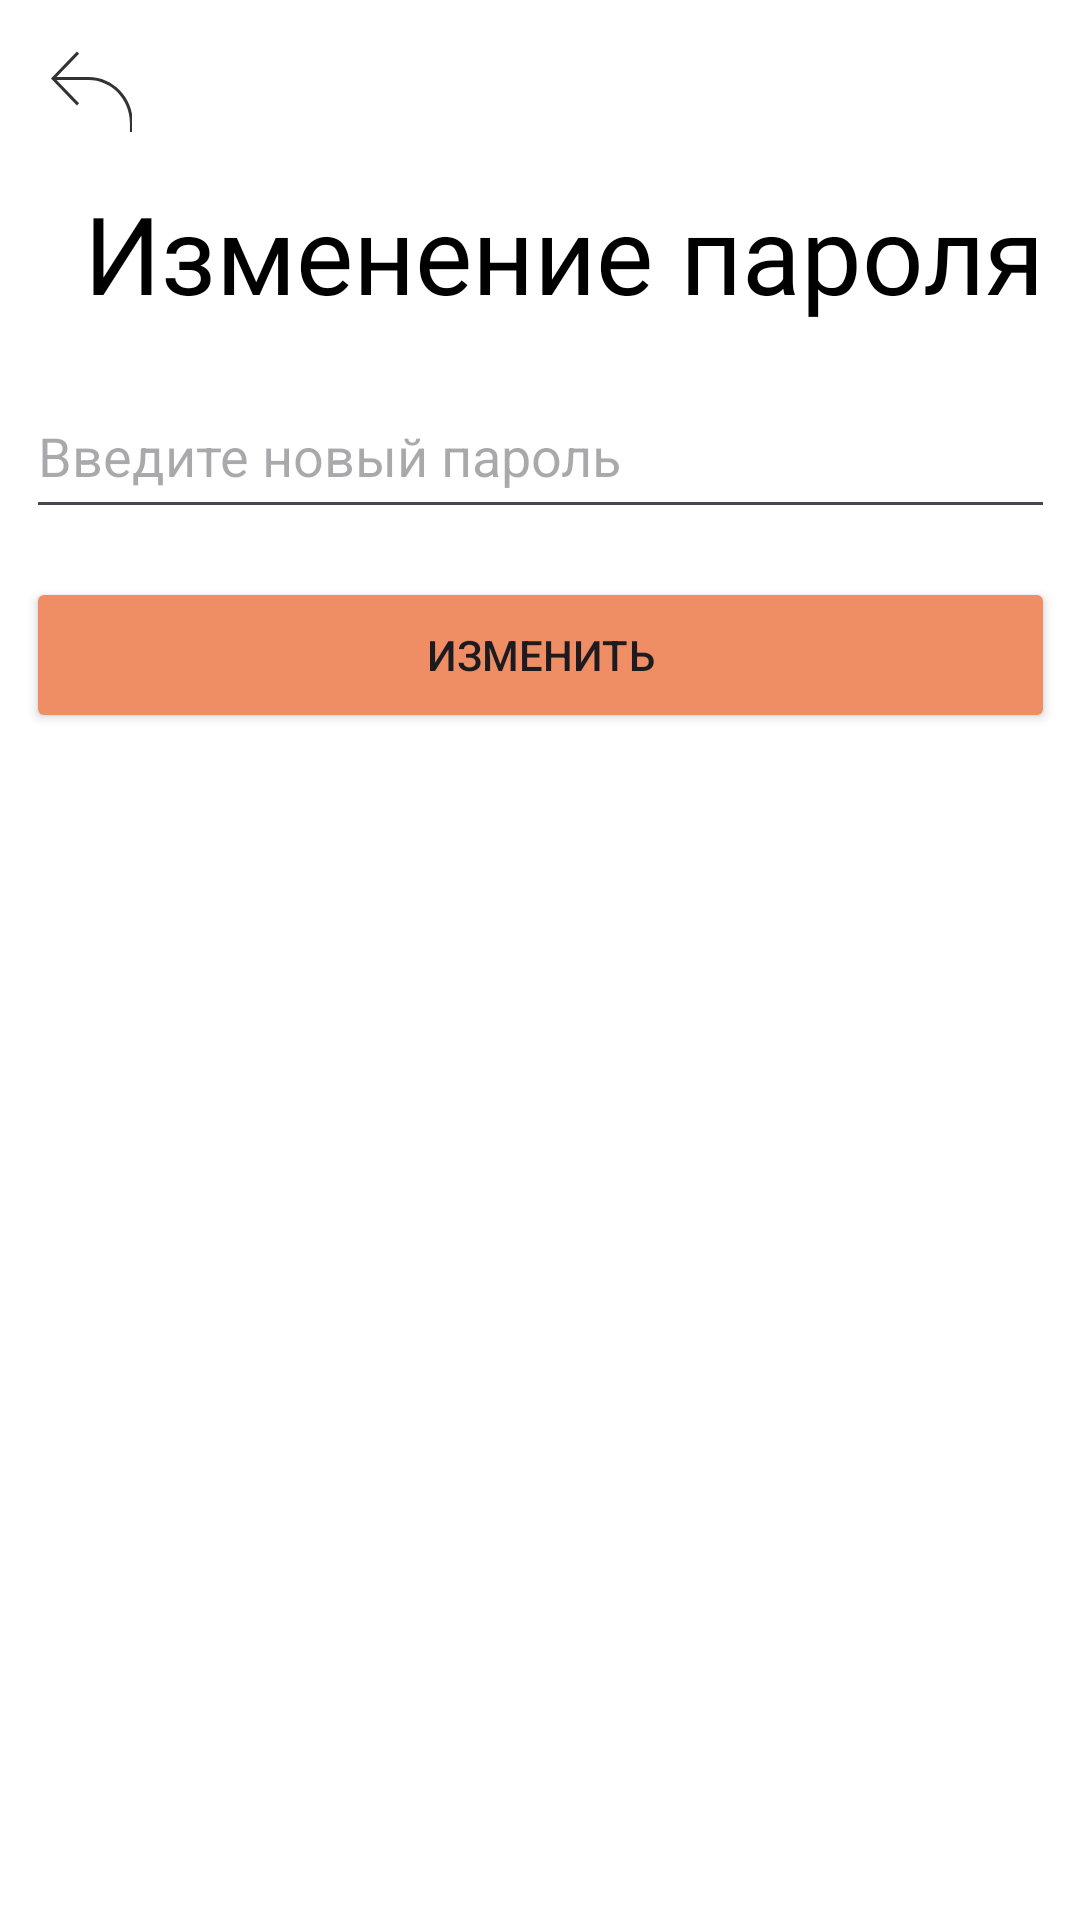

Icons on this 1080px x 1920px Android screen, each with its box as (x1, y1, x2, y2):
exit arrow back: (51, 51, 132, 132)
